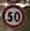limite 50: (1, 3, 24, 27)
